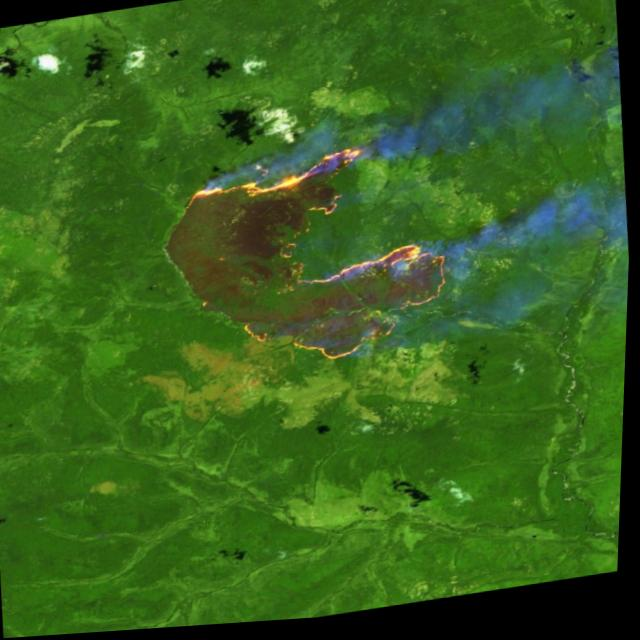fire: (173, 134, 468, 385)
